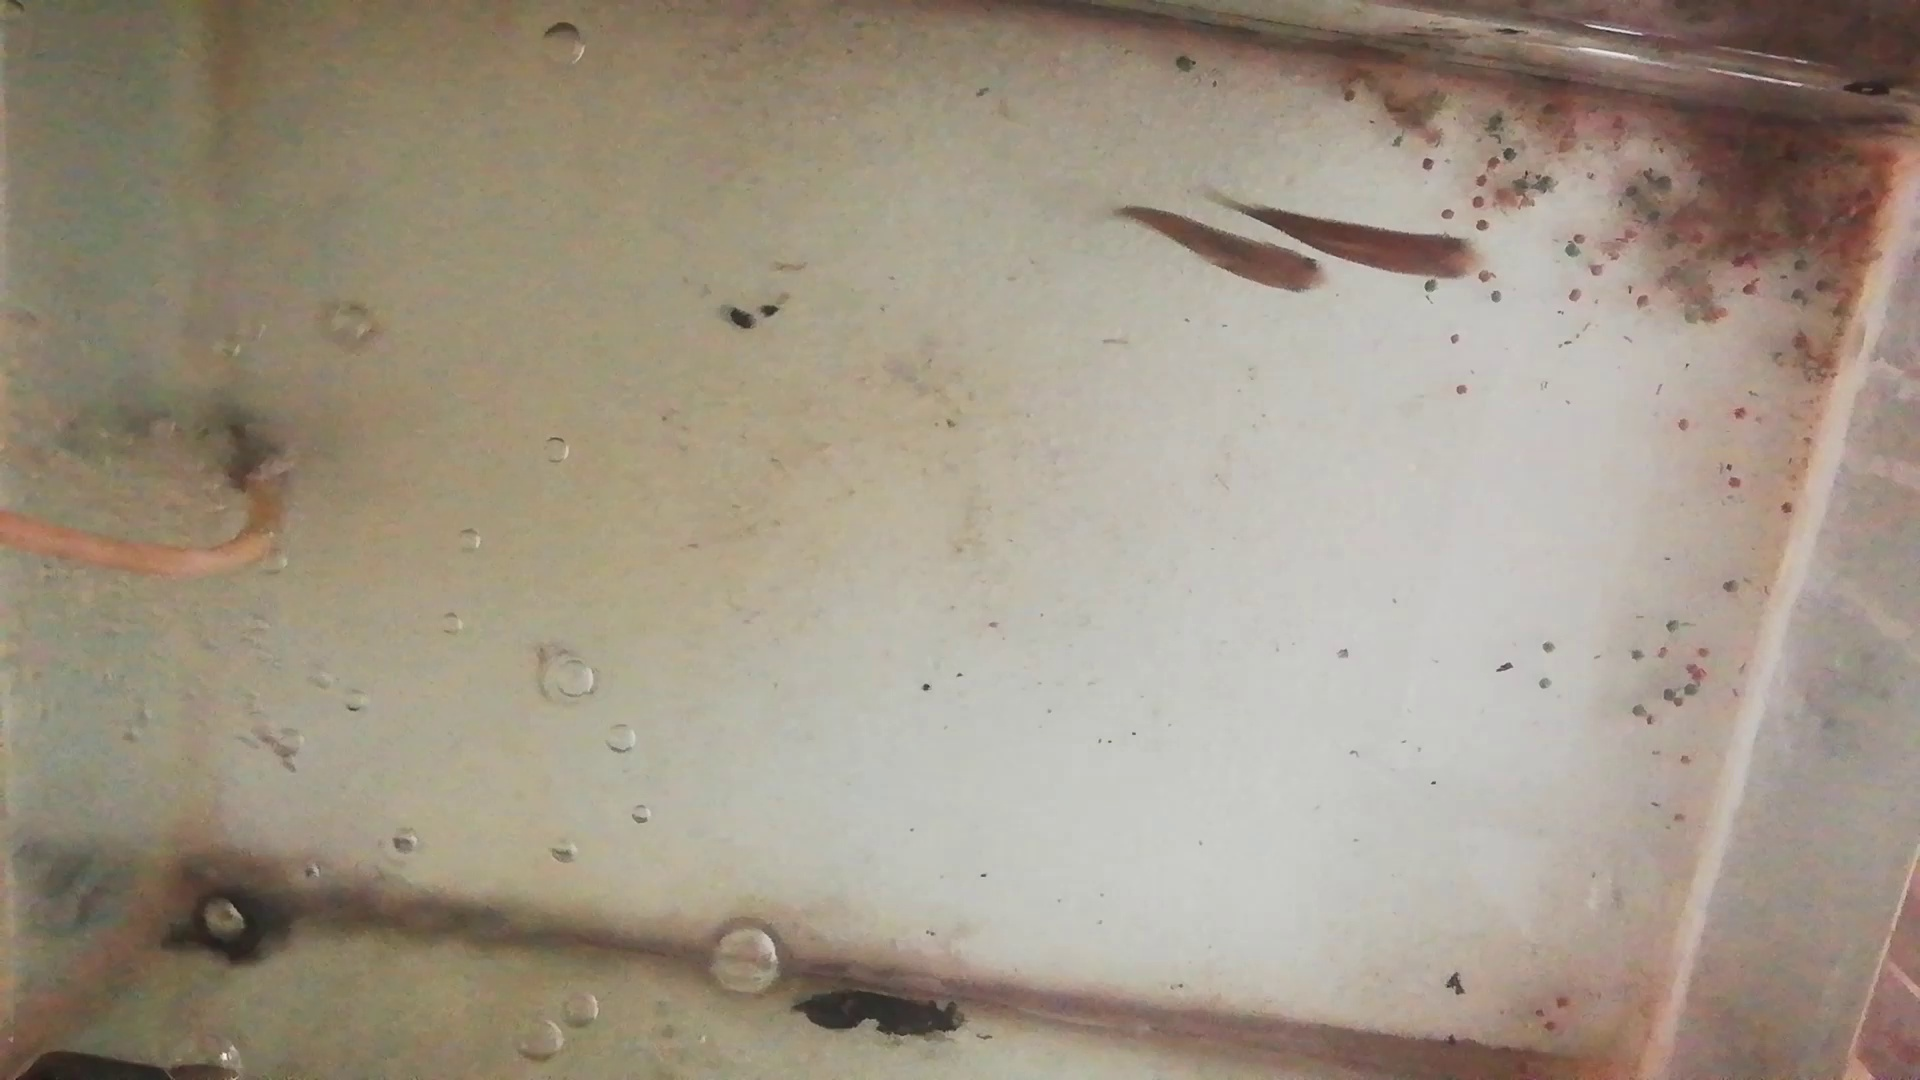fish: (1240, 193, 1477, 291), (1113, 199, 1327, 299)
